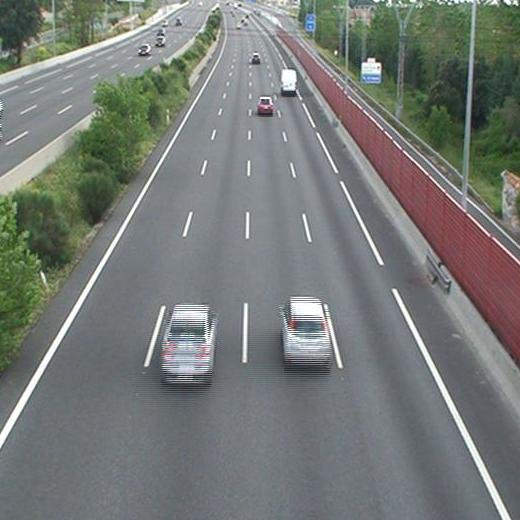car: (161, 305, 216, 377), (281, 298, 331, 361), (258, 97, 273, 113), (251, 53, 260, 63)
van: (281, 69, 297, 94)
